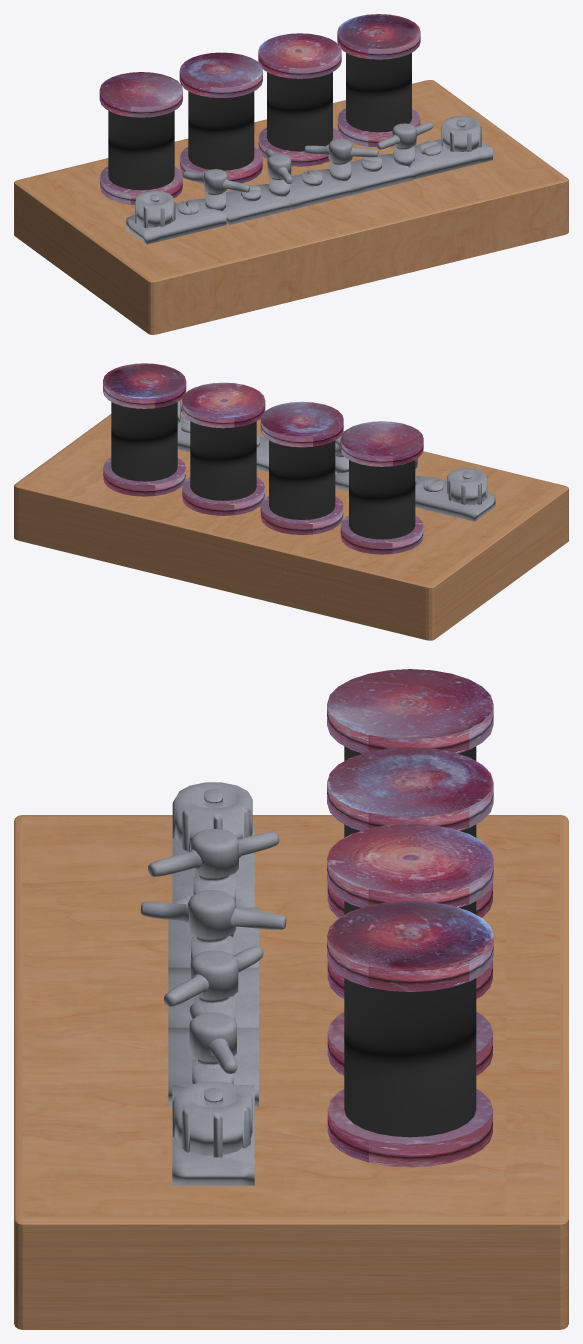
File: laboratorinis_varzynas_mazas.glb
The picture shows the model from 3 angles, top to bottom: view 1: azimuth 30°, elevation 25°; view 2: azimuth 150°, elevation 25°; view 3: azimuth 270°, elevation 25°; orthographic projection. The views are drawn at different scales.
Visible parts, largest first — view 1: Cube, Cylinder.008, Cube.002, Cube.001, Cube.003; view 2: Cube, Cylinder.008, Cube.002, Cube.003; view 3: Cube, Cylinder.008, Cube.002, Cube.003, Cube.001.
Part boxes in pixels (x1,y1,x2,y2): Cube: [14, 80, 568, 334]; Cylinder.008: [99, 14, 420, 204]; Cube.002: [126, 116, 481, 244]; Cube.001: [392, 139, 492, 179]; Cube.003: [135, 190, 175, 228]; Cube: [14, 399, 568, 640]; Cylinder.008: [103, 363, 423, 554]; Cube.002: [177, 400, 495, 521]; Cube.003: [447, 468, 487, 504]; Cube: [14, 815, 568, 1329]; Cylinder.008: [327, 669, 493, 1167]; Cube.002: [140, 825, 286, 1157]; Cube.003: [172, 782, 252, 851]; Cube.001: [172, 1085, 254, 1185].
Bounding box in the file's own units: 3.82 × 1.33 × 2.19.
7 materials, 6 textured.
